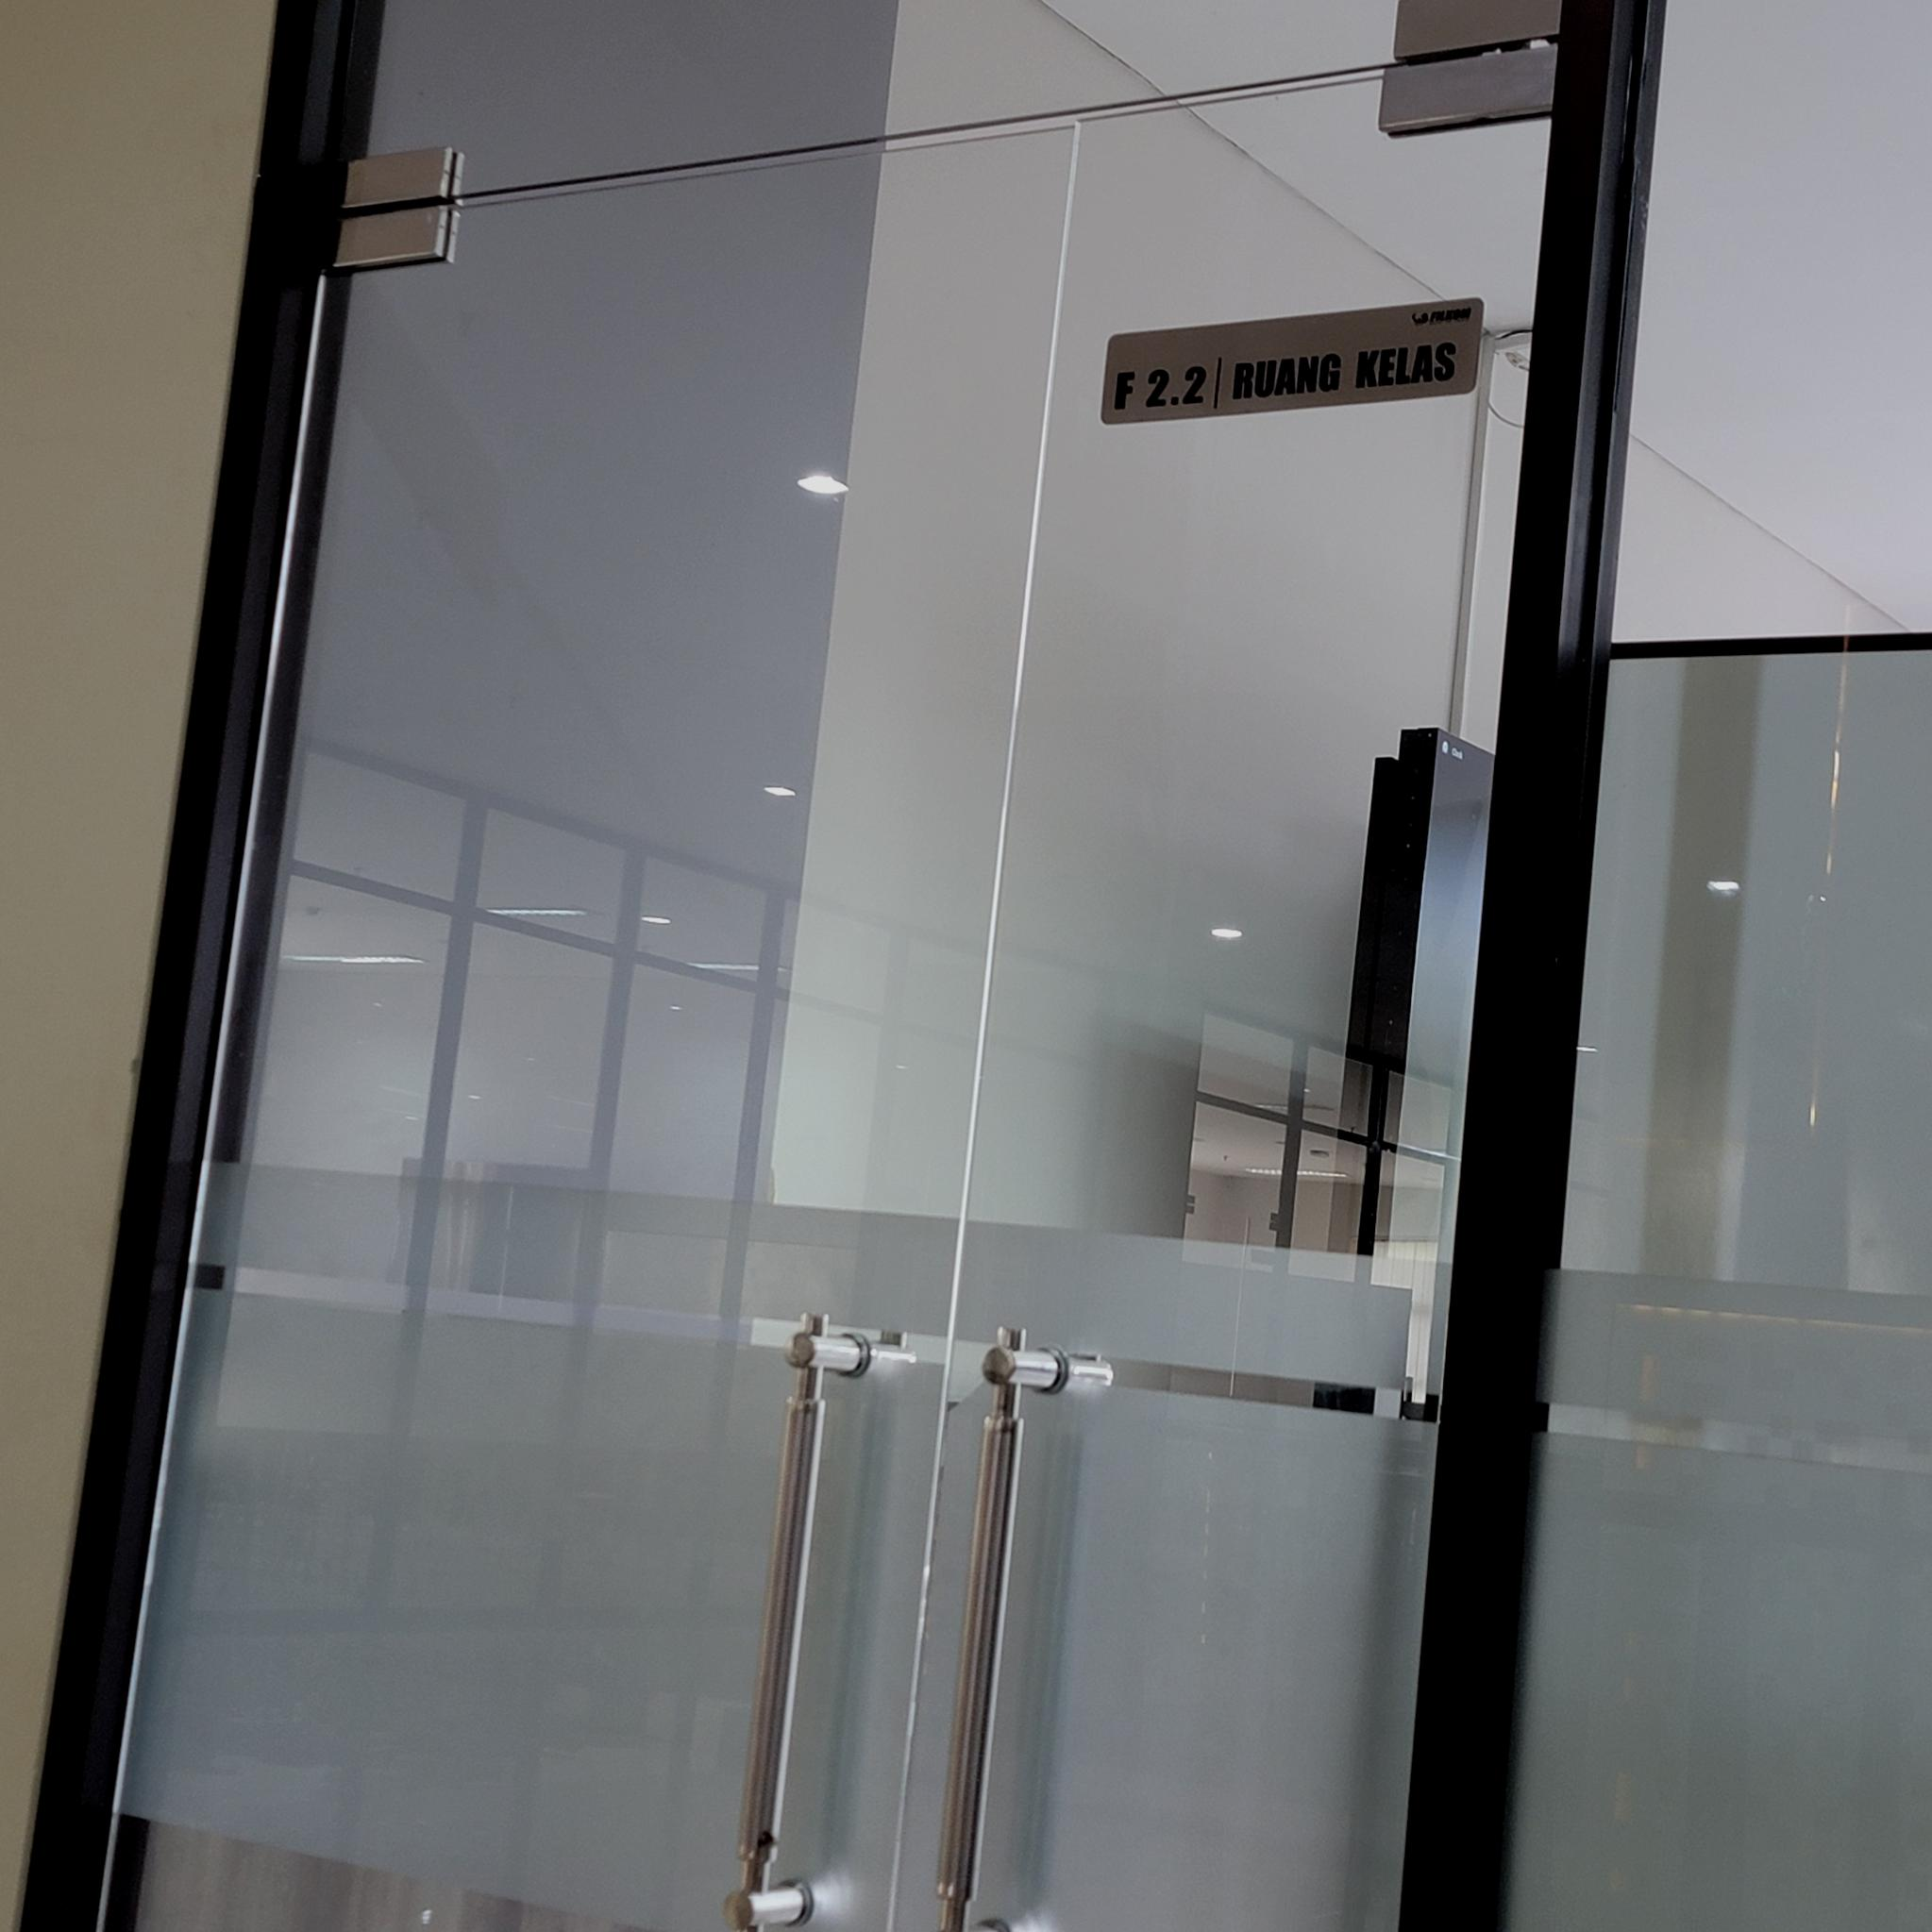plate: (1100, 297, 1490, 423)
